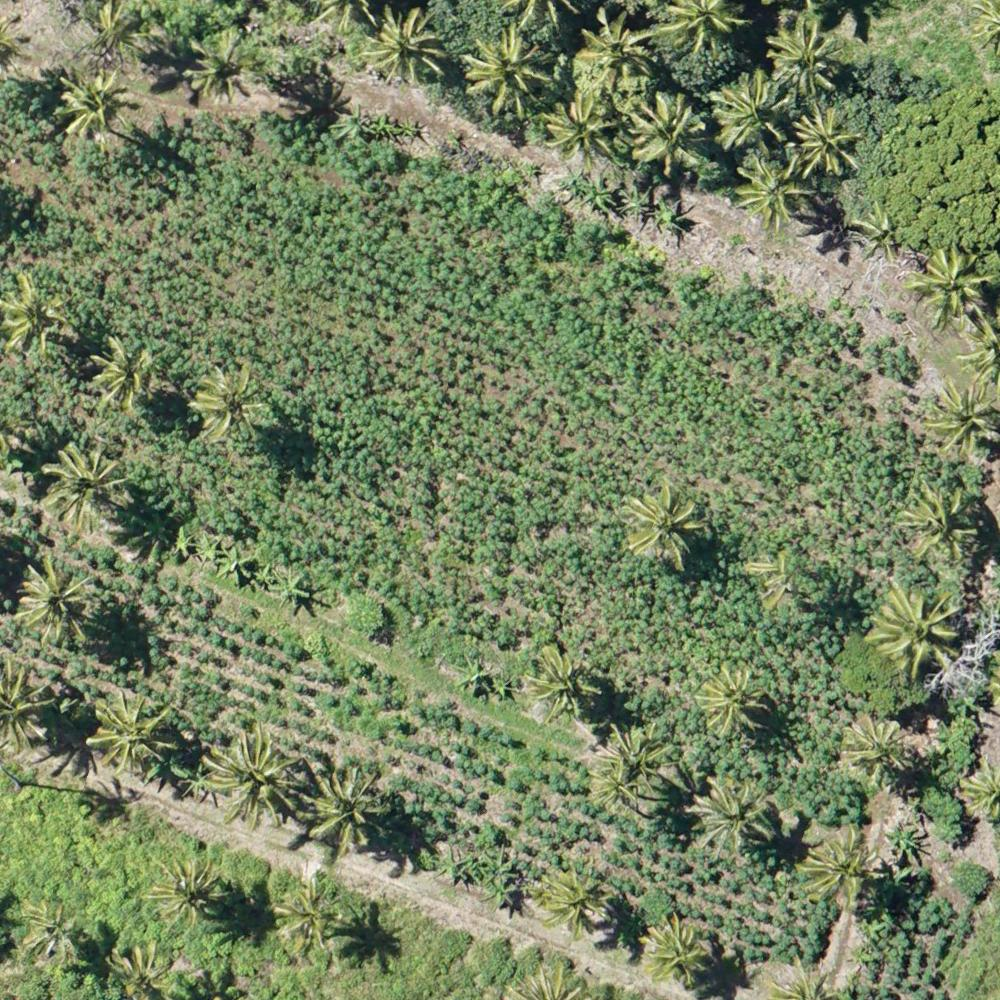Palm: (202, 725, 304, 825), (867, 580, 959, 675), (41, 439, 125, 530), (363, 2, 457, 83), (466, 24, 553, 109), (615, 489, 705, 568), (574, 7, 667, 82), (20, 558, 95, 650), (93, 689, 172, 775), (633, 88, 713, 171), (192, 366, 275, 445), (51, 66, 139, 139), (764, 19, 843, 99), (309, 769, 386, 847), (546, 91, 625, 167), (925, 383, 1000, 462), (692, 779, 774, 851), (914, 244, 985, 326), (150, 855, 225, 932), (3, 274, 71, 357), (713, 76, 791, 148), (87, 338, 161, 411), (180, 31, 257, 100), (734, 158, 807, 230), (699, 664, 769, 736), (531, 642, 602, 712), (278, 884, 345, 957), (539, 860, 608, 930), (802, 829, 869, 901), (641, 921, 713, 988), (16, 901, 83, 973), (904, 488, 976, 555), (793, 108, 862, 177), (842, 714, 909, 780), (102, 944, 171, 1000), (591, 764, 640, 817)
